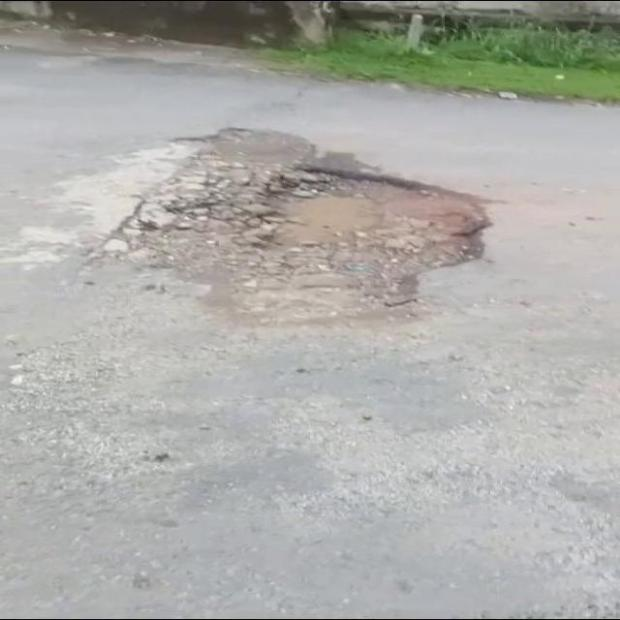lubang: (105, 129, 490, 320)
